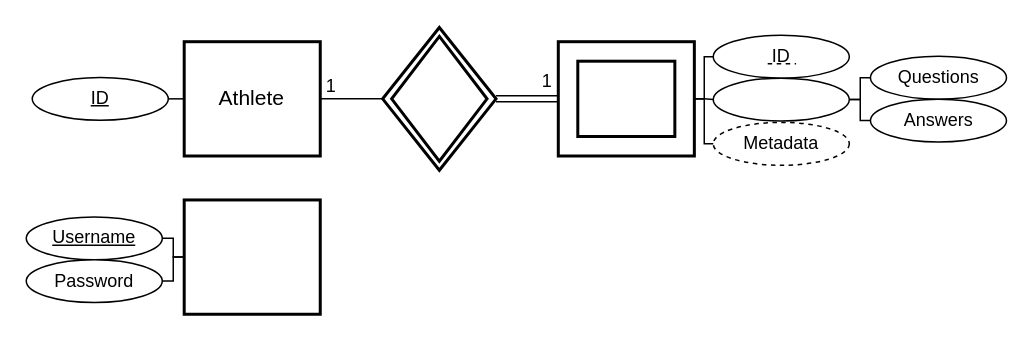
This 1034x342 diagram has some shape labels left out. The shapes that lost their labels are listed below. From the top down, each one's box as (x1, y1, x2, y2) in pixels, then its label:
(380, 25, 497, 171): Has
(556, 39, 695, 157): Interview
(712, 77, 849, 121): Text
(182, 198, 321, 315): API_User
